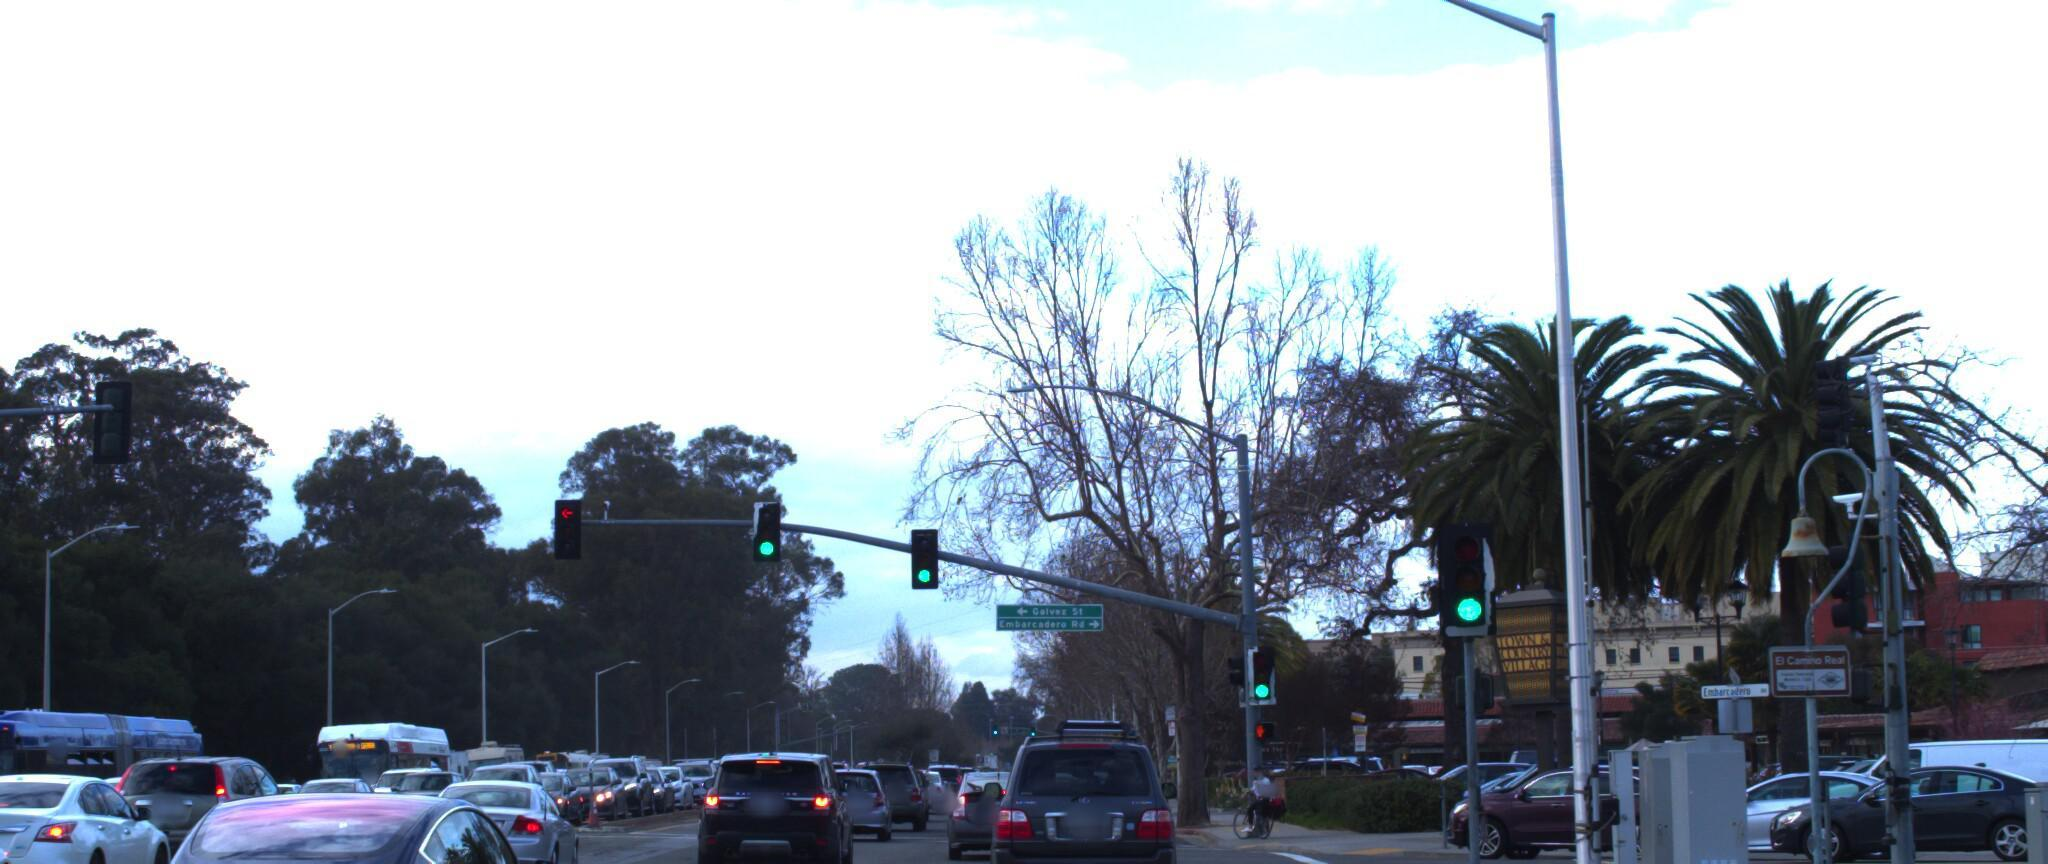bicycle: (1228, 745, 1277, 824)
bus: (0, 688, 249, 852)
car: (74, 783, 589, 864), (1772, 718, 2048, 856), (1415, 744, 1725, 850), (1741, 745, 2048, 851), (1625, 752, 1944, 850), (984, 702, 1174, 864), (95, 743, 325, 864), (682, 730, 842, 864), (0, 758, 199, 864), (408, 764, 596, 864), (920, 760, 1031, 854), (810, 754, 899, 829), (0, 760, 31, 864)
